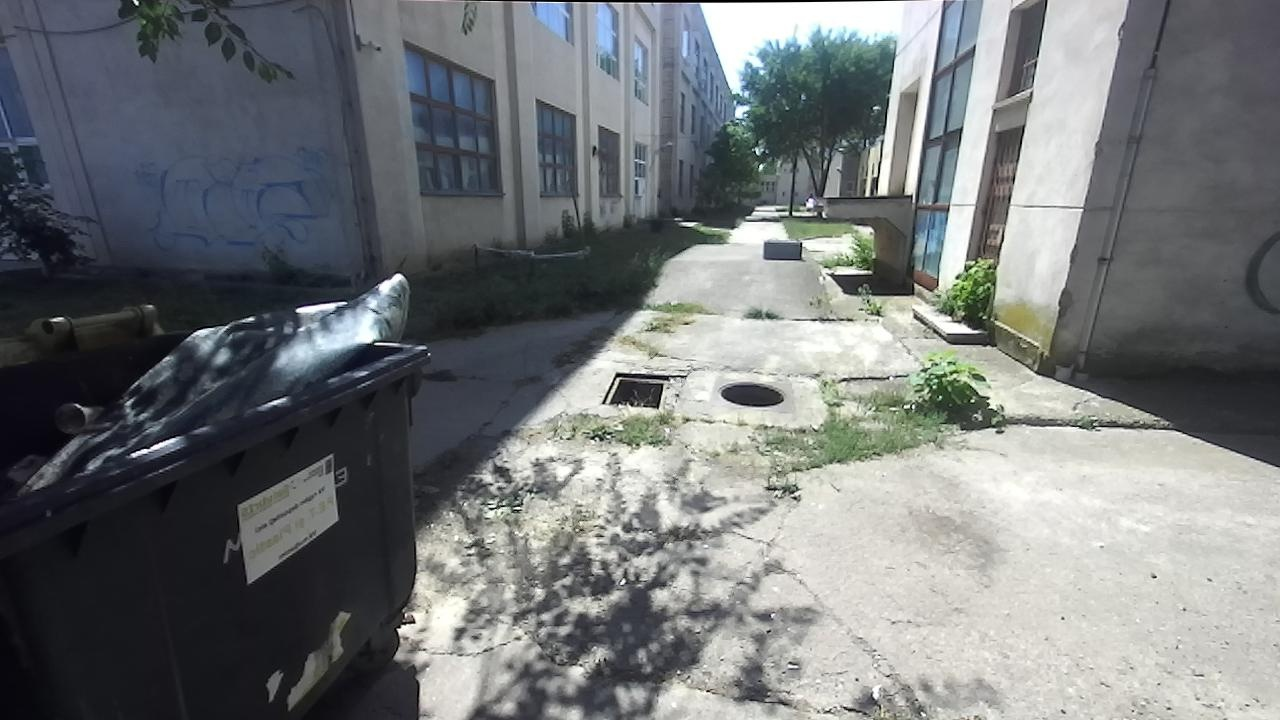drain: (600, 374, 684, 406), (716, 378, 785, 412)
